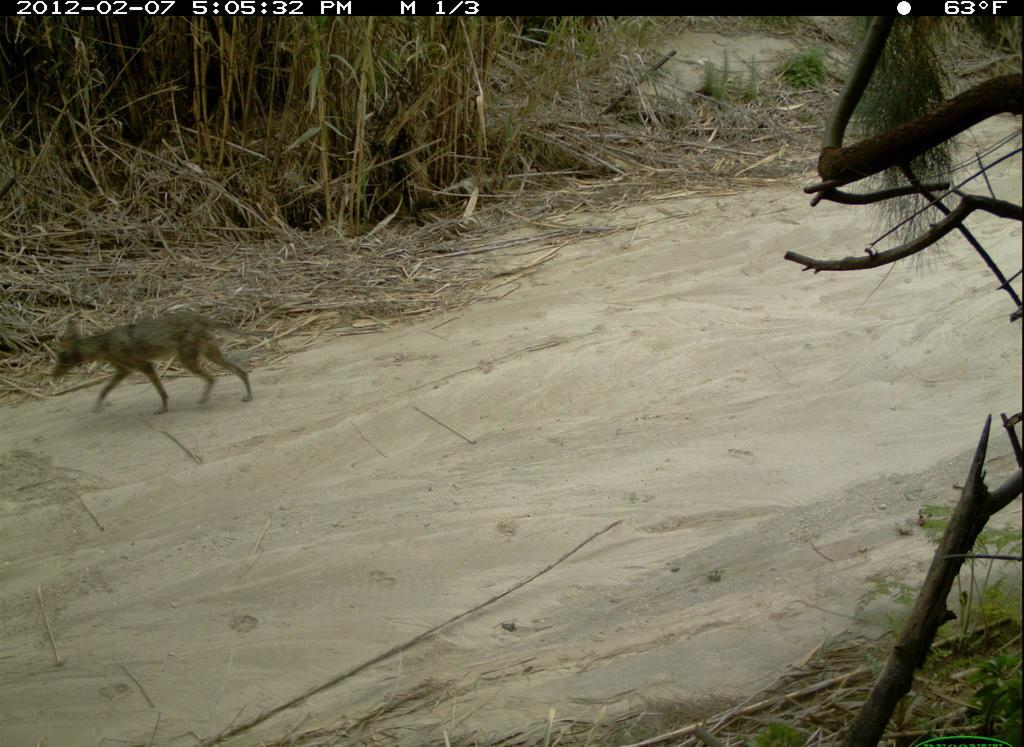coyote: (43, 299, 273, 422)
